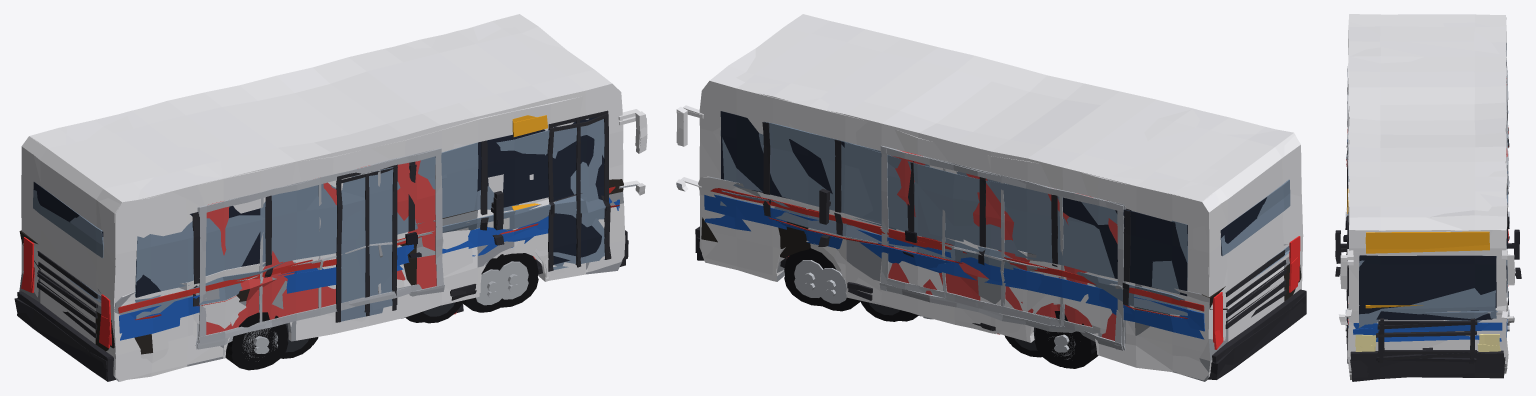
Rendered from cars-damage.glb.
3 views of the same model, side by side, from view 1: azimuth 30°, elevation 25°; view 2: azimuth 150°, elevation 25°; view 3: azimuth 270°, elevation 25° (orthographic). The views are drawn at different scales.
Visible parts, largest first — view 1: Bus_dent, Bus_bust, Bus_wreck, BoxTruck_bust, BoxTruck_dent, BoxTruck_wreck, Cruiser_bust; view 2: Bus_dent, Bus_bust, Bus_wreck, BoxTruck_bust, BoxTruck_wreck, BoxTruck_dent, Cruiser_wreck, Cruiser_bust; view 3: Bus_dent, Bus_bust, Bus_wreck, BoxTruck_bust, BoxTruck_dent, BoxTruck_wreck.
Part boxes in pixels (x1=…): Bus_dent: x1=17, y1=27, x2=646, y2=381; Bus_bust: x1=17, y1=14, x2=647, y2=381; Bus_wreck: x1=14, y1=179, x2=645, y2=379; BoxTruck_bust: x1=197, y1=150, x2=542, y2=368; BoxTruck_dent: x1=197, y1=148, x2=506, y2=344; BoxTruck_wreck: x1=195, y1=231, x2=542, y2=369; Cruiser_bust: x1=281, y1=235, x2=462, y2=358; Bus_dent: x1=677, y1=14, x2=1306, y2=362; Bus_bust: x1=676, y1=48, x2=1306, y2=380; Bus_wreck: x1=676, y1=176, x2=1306, y2=381; BoxTruck_bust: x1=814, y1=146, x2=1125, y2=367; BoxTruck_wreck: x1=780, y1=226, x2=1125, y2=367; BoxTruck_dent: x1=819, y1=145, x2=1125, y2=336; Cruiser_wreck: x1=860, y1=251, x2=1041, y2=357; Cruiser_bust: x1=863, y1=230, x2=1041, y2=356; Bus_dent: x1=1340, y1=15, x2=1514, y2=373; Bus_bust: x1=1340, y1=14, x2=1514, y2=381; Bus_wreck: x1=1338, y1=111, x2=1514, y2=378; BoxTruck_bust: x1=1335, y1=66, x2=1519, y2=316; BoxTruck_dent: x1=1335, y1=66, x2=1519, y2=313; BoxTruck_wreck: x1=1335, y1=134, x2=1521, y2=278.
Size of the model in its own units: 6.35 by 2.28 by 2.25.
